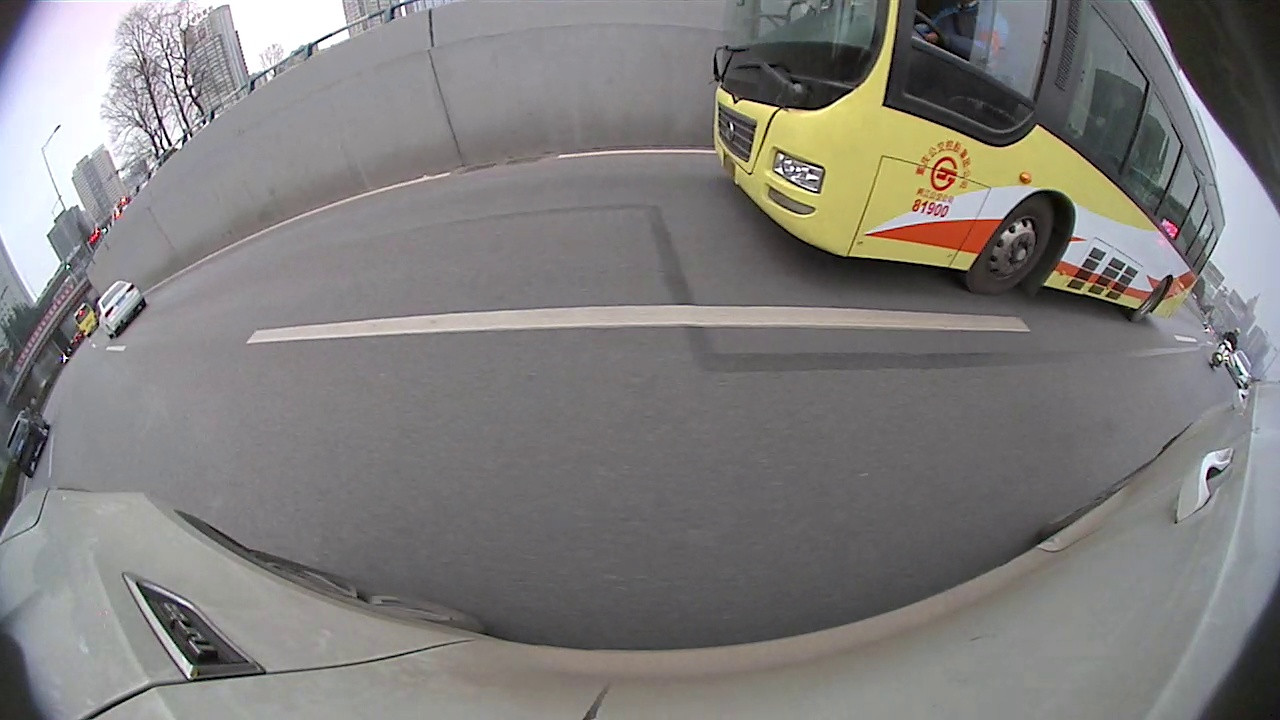bus: (975, 149, 1219, 325), (1224, 256, 1278, 385)
car: (1, 129, 405, 522), (398, 141, 536, 238), (598, 152, 642, 193), (567, 158, 598, 185)
front: (334, 237, 398, 326), (524, 184, 540, 209)
rear: (711, 158, 751, 222), (1084, 245, 1118, 279), (486, 189, 503, 223)
truck: (642, 0, 1011, 226)
